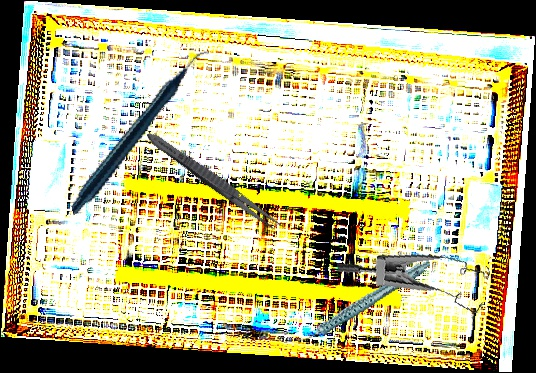Dressing Forceps: (142, 127, 288, 237)
Handpiece: (41, 50, 241, 215), (285, 259, 441, 345)
Speculum: (336, 236, 497, 336)
